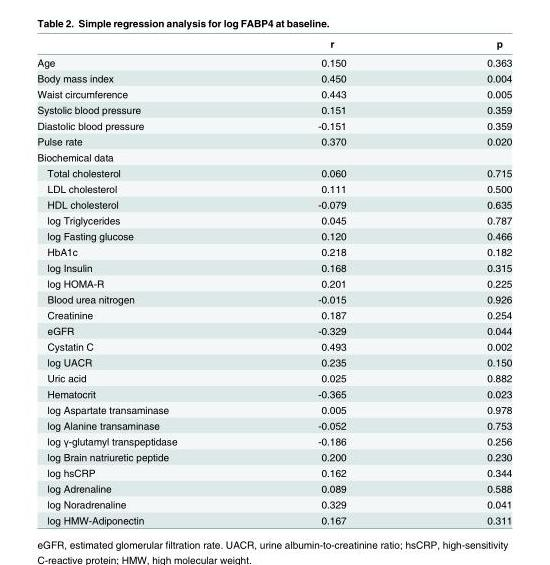table: (36, 37, 511, 525)
table column: (36, 37, 246, 525), (246, 37, 415, 525), (415, 37, 511, 525)
table column header: (36, 37, 511, 52)
table projected row header: (36, 148, 511, 164)
table row: (36, 52, 511, 70), (36, 85, 511, 101), (36, 101, 511, 117), (36, 117, 511, 133), (36, 148, 511, 164), (36, 164, 511, 180), (36, 180, 511, 196), (36, 196, 511, 212), (36, 227, 511, 243), (36, 243, 511, 259), (36, 259, 511, 275), (36, 290, 511, 306), (36, 306, 511, 322), (36, 322, 511, 338), (36, 338, 511, 354), (36, 369, 511, 385), (36, 385, 511, 401), (36, 401, 511, 417), (36, 417, 511, 433), (36, 448, 511, 464), (36, 464, 511, 480), (36, 480, 511, 496), (36, 37, 511, 52), (36, 70, 511, 85), (36, 133, 511, 148), (36, 212, 511, 227), (36, 275, 511, 290), (36, 354, 511, 369), (36, 433, 511, 448), (36, 496, 511, 511), (36, 511, 511, 525)
